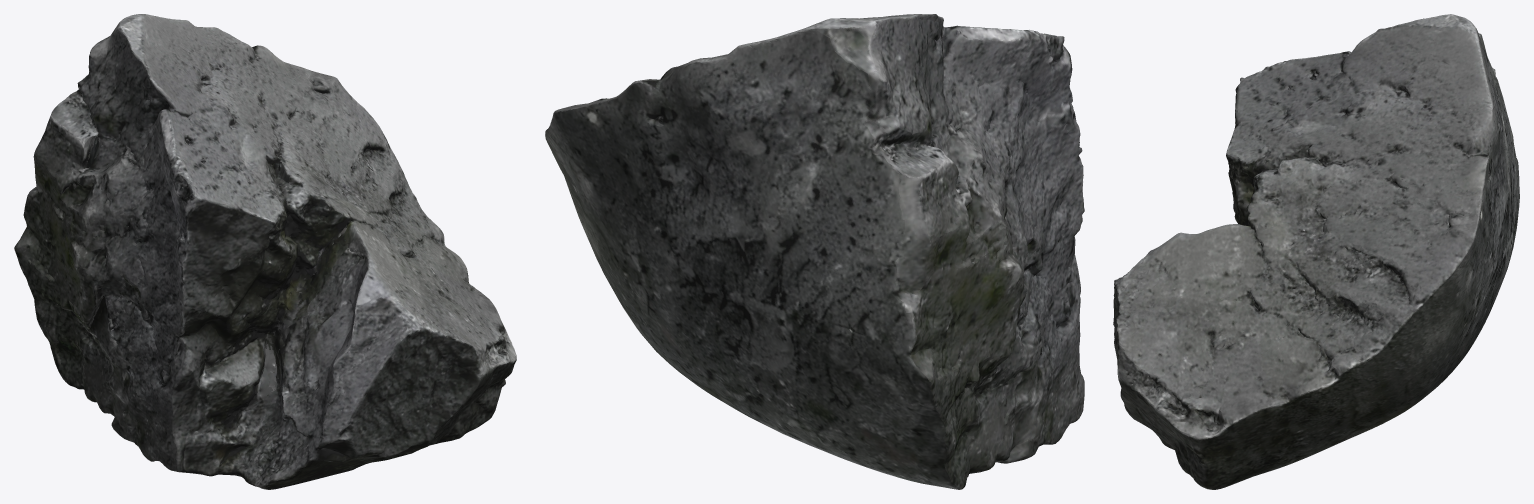
The model's file is fractured-basalt-v13.glb.
3 renders of one model, left to right at view 1: azimuth 30°, elevation 25°; view 2: azimuth 150°, elevation 25°; view 3: azimuth 270°, elevation 25°, orthographic. The views are drawn at different scales.
Parts seen in each view (by area): view 1: geometry_0; view 2: geometry_0; view 3: geometry_0.
Part boxes in pixels (box(x1,y1,x2,y2)): geometry_0: box(14, 14, 516, 489); geometry_0: box(545, 14, 1084, 489); geometry_0: box(1113, 14, 1519, 489).
Size of the model in its own units: 0.18 by 0.185 by 0.1839.
1 material, 1 textured.
